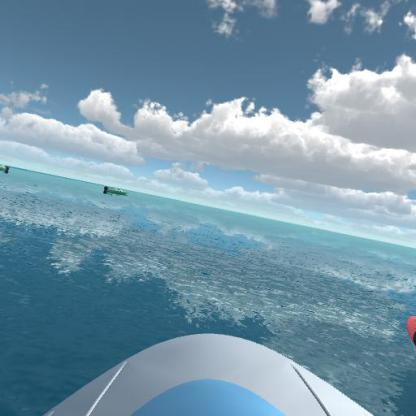usv0: (102, 181, 132, 200), (0, 160, 15, 176)
usv3: (397, 307, 415, 358)
